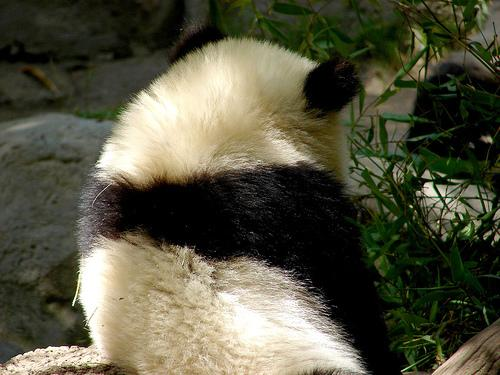panda: (78, 25, 399, 374)
